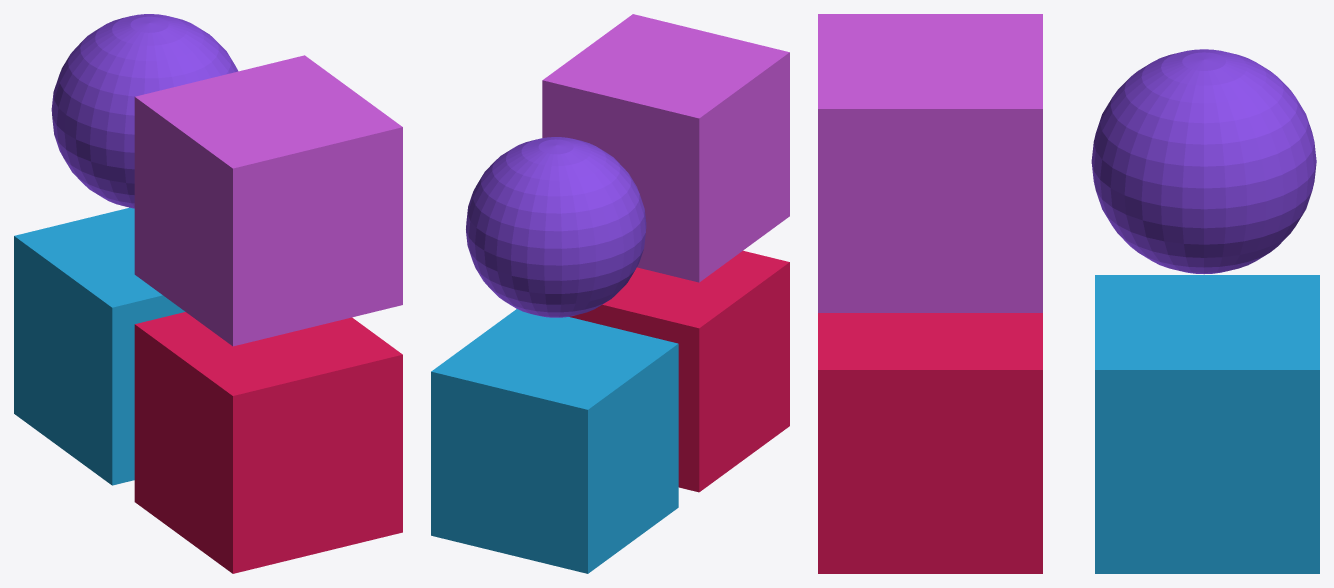
The model's file is proto.glb.
The picture shows the model from 3 angles, left to right: view 1: azimuth 30°, elevation 25°; view 2: azimuth 150°, elevation 25°; view 3: azimuth 270°, elevation 25°; orthographic projection. The views are drawn at different scales.
Parts seen in each view (by area): view 1: Cube.001, Cube, Cube.002, Sphere; view 2: Cube.002, Cube.001, Cube, Sphere; view 3: Cube.001, Cube.002, Cube, Sphere.
Part boxes in pixels (x1,y1,x2,y2): Cube.001: (134,55,402,346); Cube: (134,312,402,573); Cube.002: (14,207,185,485); Sphere: (51,14,238,208); Cube.002: (431,309,678,573); Cube.001: (542,14,789,282); Cube: (569,250,789,492); Sphere: (466,137,646,317); Cube.001: (818,14,1042,312); Cube.002: (1095,275,1319,573); Cube: (818,313,1042,573); Sphere: (1091,49,1316,274).
Size of the model in its own units: 2 by 4.58 by 4.46.
